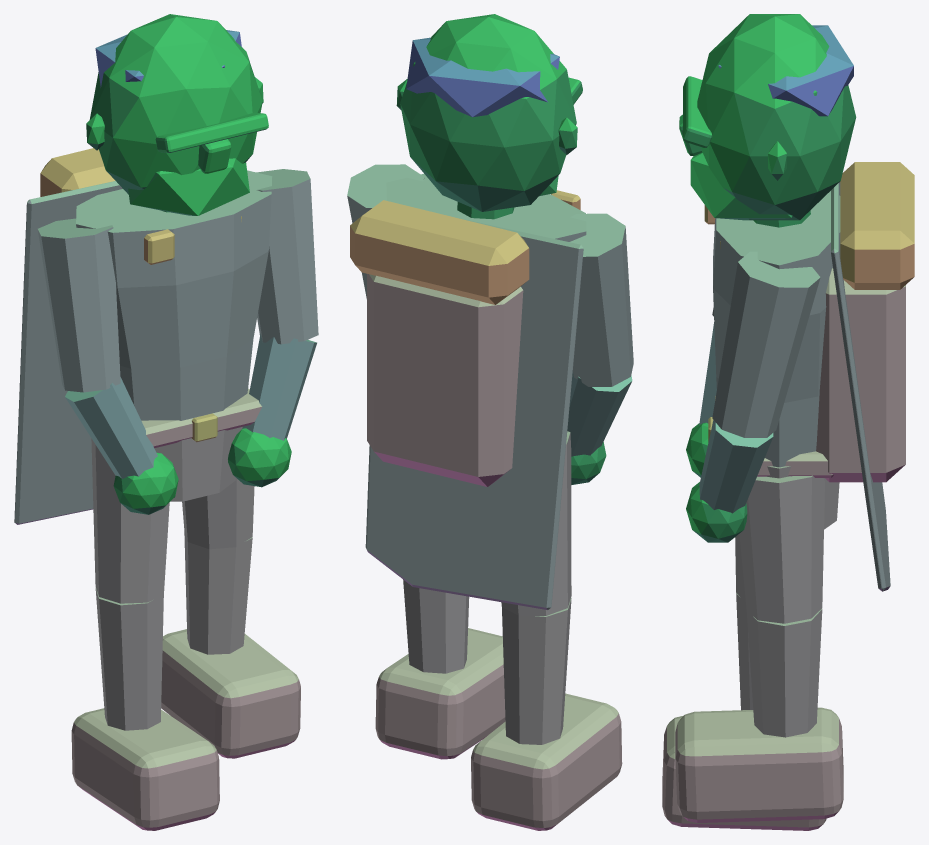
File: npc_refugee_passing_l_v01.glb
3 views of the same model, side by side, from view 1: azimuth 30°, elevation 25°; view 2: azimuth 150°, elevation 25°; view 3: azimuth 270°, elevation 25° (orthographic). The views are drawn at different scales.
Parts seen in each view (by area): view 1: GEO_npc_refugee_passing_l_v01; view 2: GEO_npc_refugee_passing_l_v01; view 3: GEO_npc_refugee_passing_l_v01.
Boxes of the visible parts, x1,y1,x2,y2 form: GEO_npc_refugee_passing_l_v01: (14,14,318,830); GEO_npc_refugee_passing_l_v01: (347,14,633,830); GEO_npc_refugee_passing_l_v01: (662,14,914,830).
Size of the model in its own units: 0.7519 by 2.08 by 0.5777.
